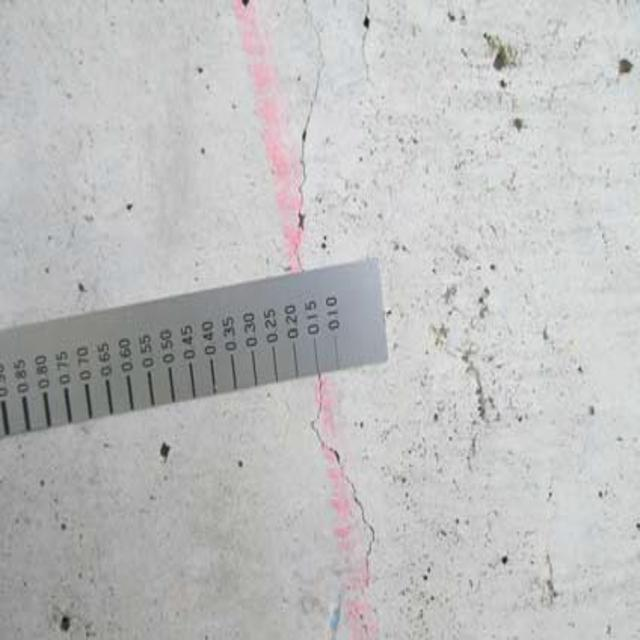crack: (304, 389, 392, 620), (282, 13, 338, 268)
